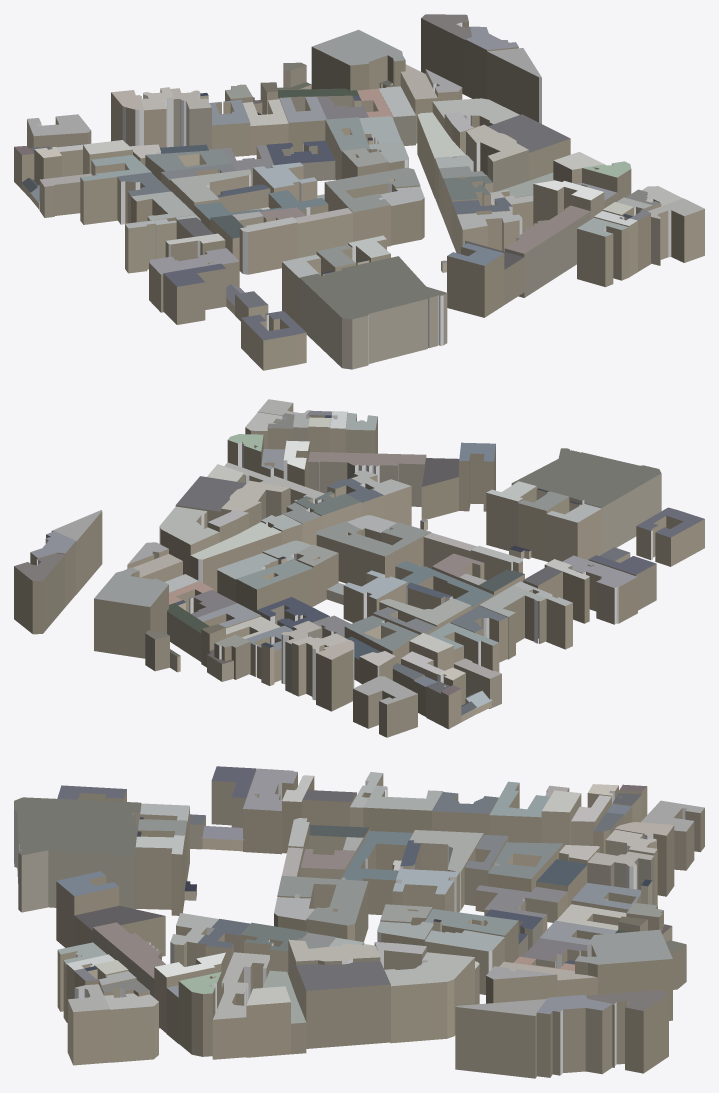
The picture shows the model from 3 angles, top to bottom: view 1: azimuth 30°, elevation 25°; view 2: azimuth 150°, elevation 25°; view 3: azimuth 270°, elevation 25°; orthographic projection. The views are drawn at different scales.
Parts seen in each view (by area): view 1: tuile; view 2: tuile; view 3: tuile.
Part boxes in pixels (box(x1,y1,x2,y2)): tuile: box(14, 14, 704, 370); tuile: box(14, 399, 704, 737); tuile: box(14, 766, 704, 1078).
Size of the model in its own units: 265 by 32.21 by 287.
